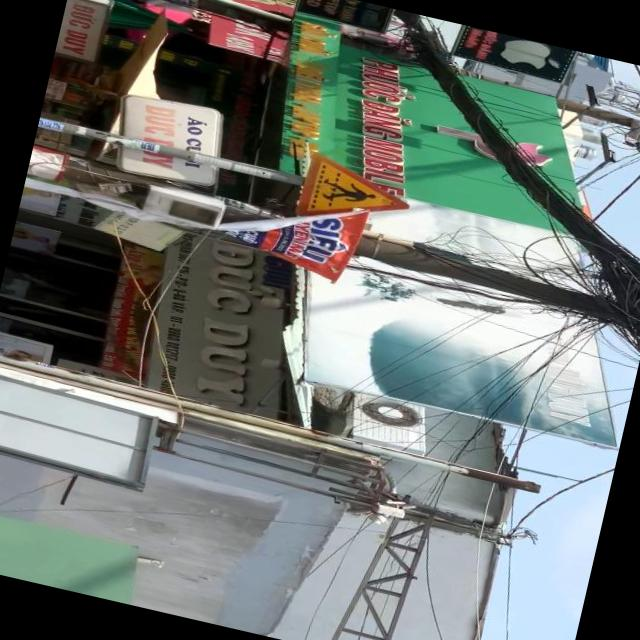W-224: (291, 148, 418, 240)
